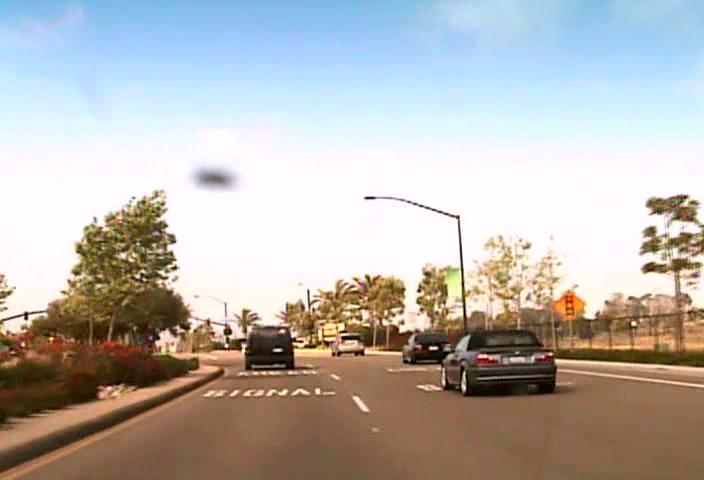signalAhead: (551, 289, 586, 321)
